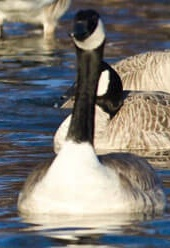goose: (13, 7, 170, 228)
